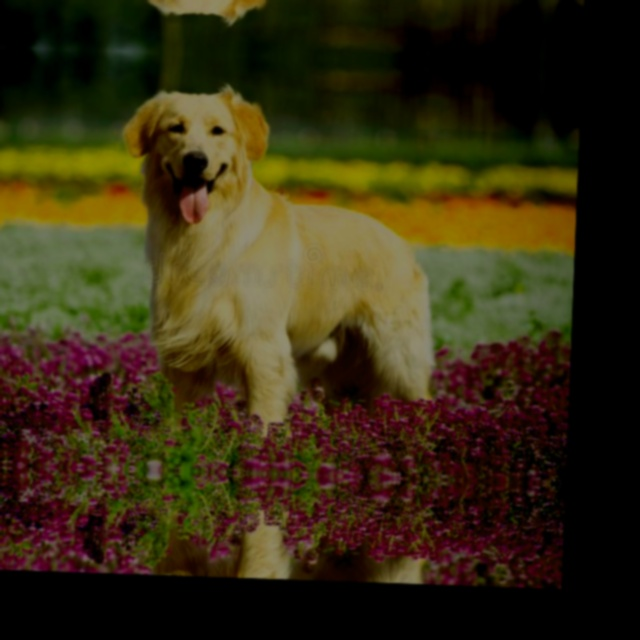dog: (113, 78, 483, 445), (107, 504, 466, 586), (129, 0, 488, 35)
